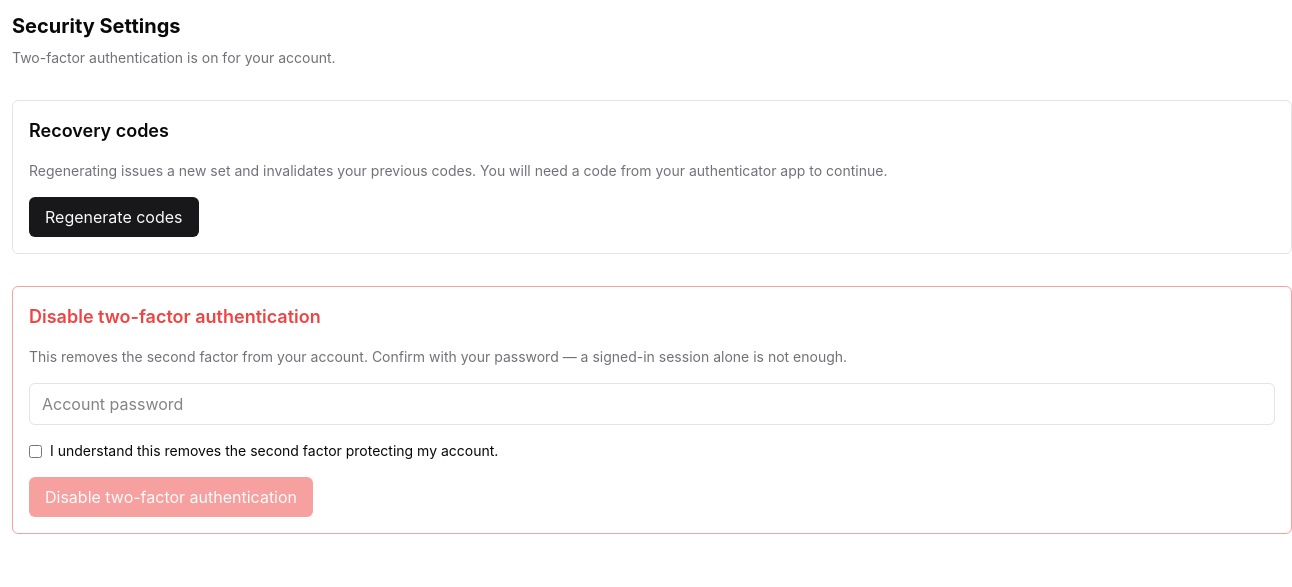
Test: SecuritySettingsPage disable › surfaces the backend detail on a 401 and leaves mfa on
This screenshot has width=1292, height=587.
Type "wrong-pass" into the password field labelled "Account password" at (652,404), box x1=29 y1=383 x2=1275 y2=425
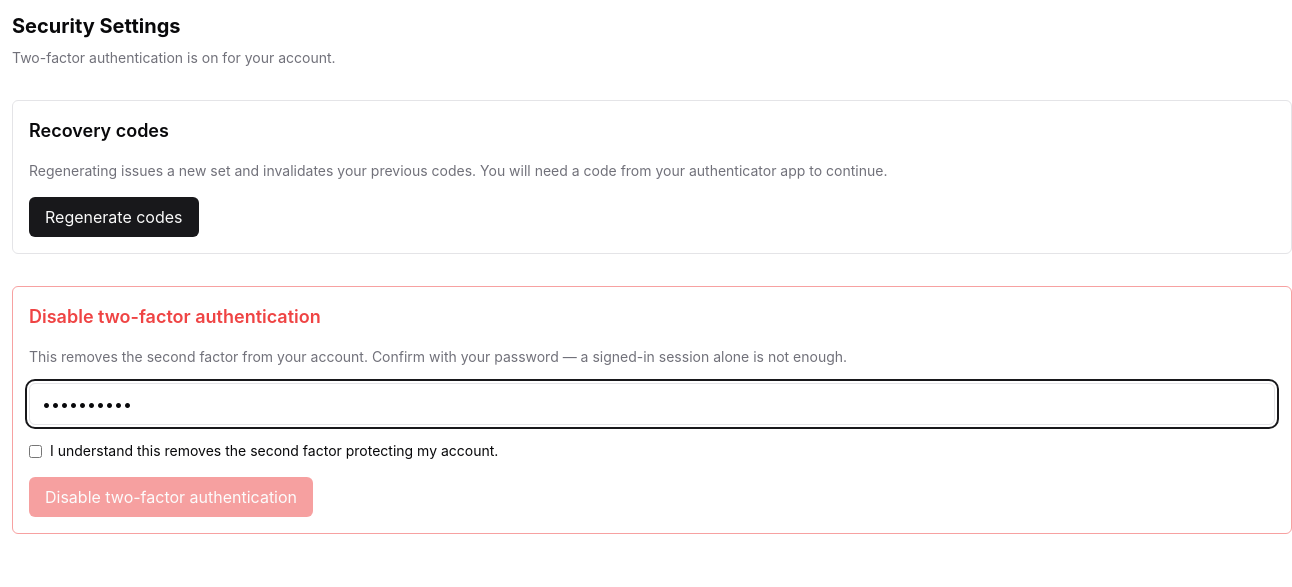
Click the checkbox with test id "disable-confirm" at (36,452), box x1=29 y1=445 x2=42 y2=458
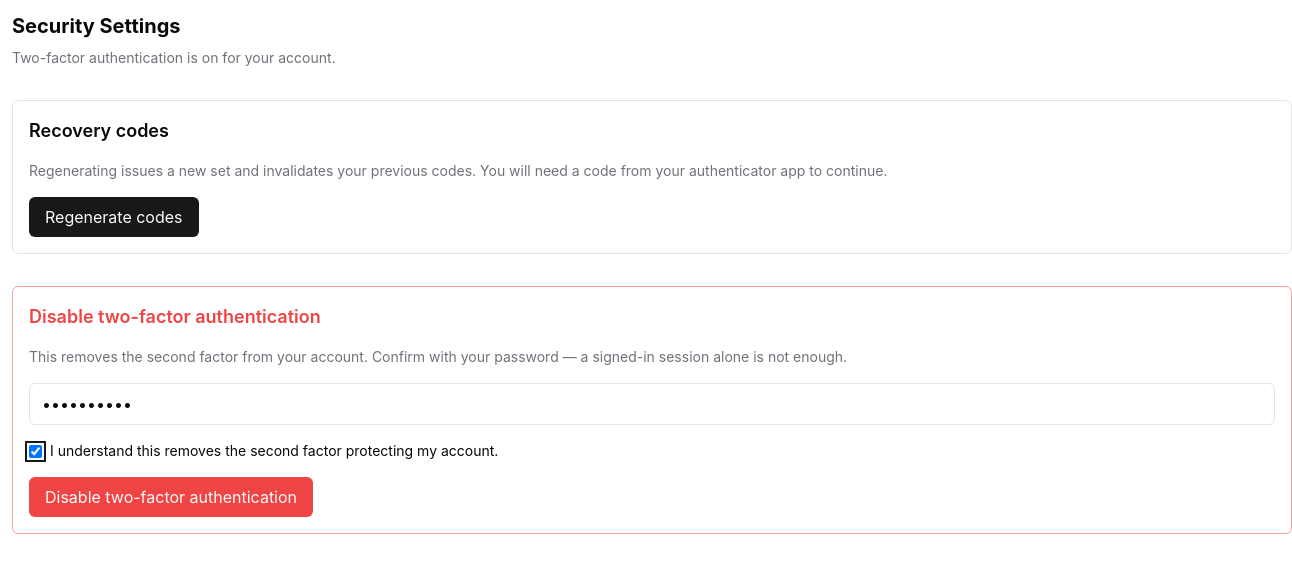
Click the button "Disable two-factor authentication" at (171,497), box x1=29 y1=477 x2=313 y2=517
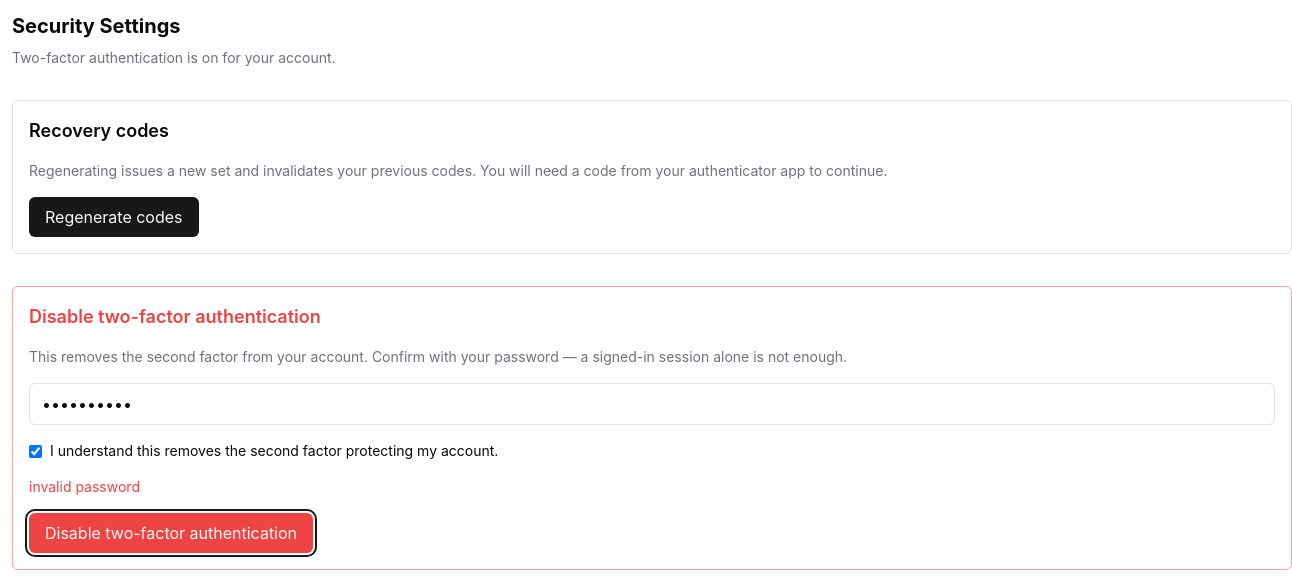
Expected: the heading "Disable two-factor authentication" is shown, x1=29 y1=306 x2=321 y2=327
Now the message reads "invalid password", box x1=29 y1=478 x2=140 y2=495
